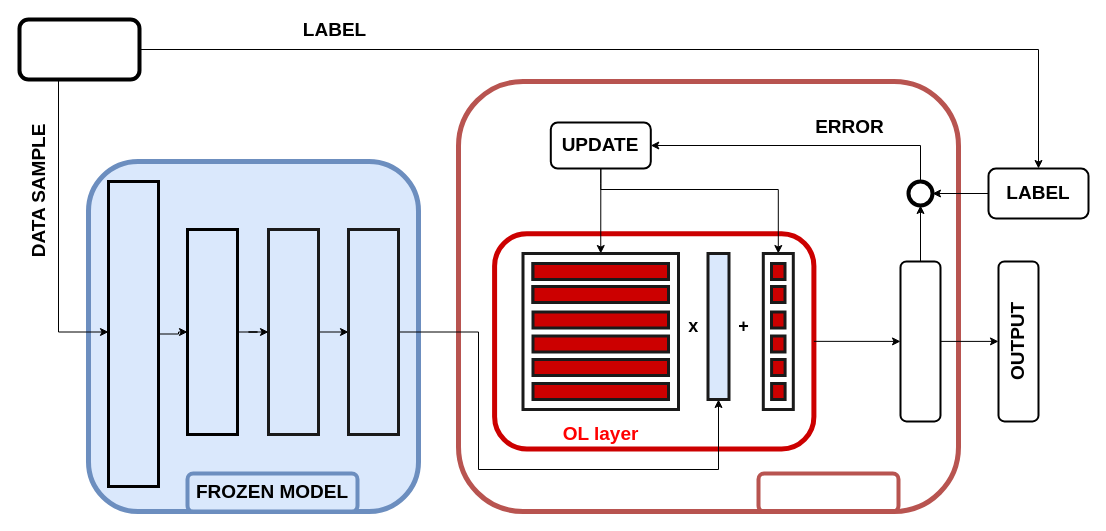
Image size: 1106x531. Some labels were removed from this diagram. Here are the shapes that lost their labels. From the top down, the centre of each, then its label:
At [79,49]: "DATASET".
At [920,341]: "PREDICTION".
At [828,492]: "OL SYSTEM".
